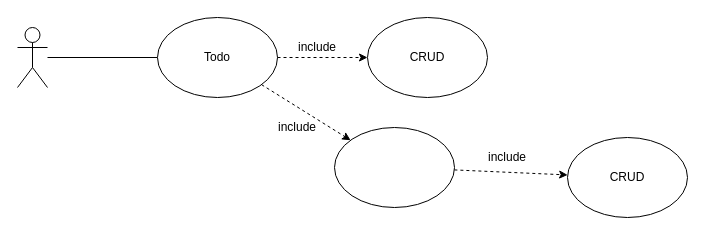
Image size: 705x235. Some labels were removed from this diagram. Each missing label, with the box of its shape:
TodoItems: (334, 126, 454, 208)
User: (16, 26, 48, 88)
